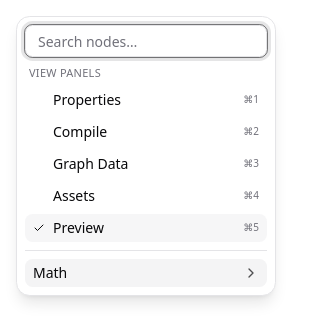
Test: GraphContextMenu search › matches nodes by alias when searching
Type "split" into the field with placeholder "Search nodes…" at (146, 41), box [25,25,267,57]
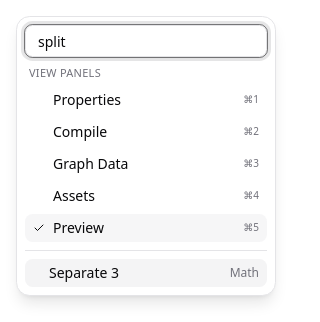
Expected: the text "Separate 3" is shown, [49,262,119,282]
